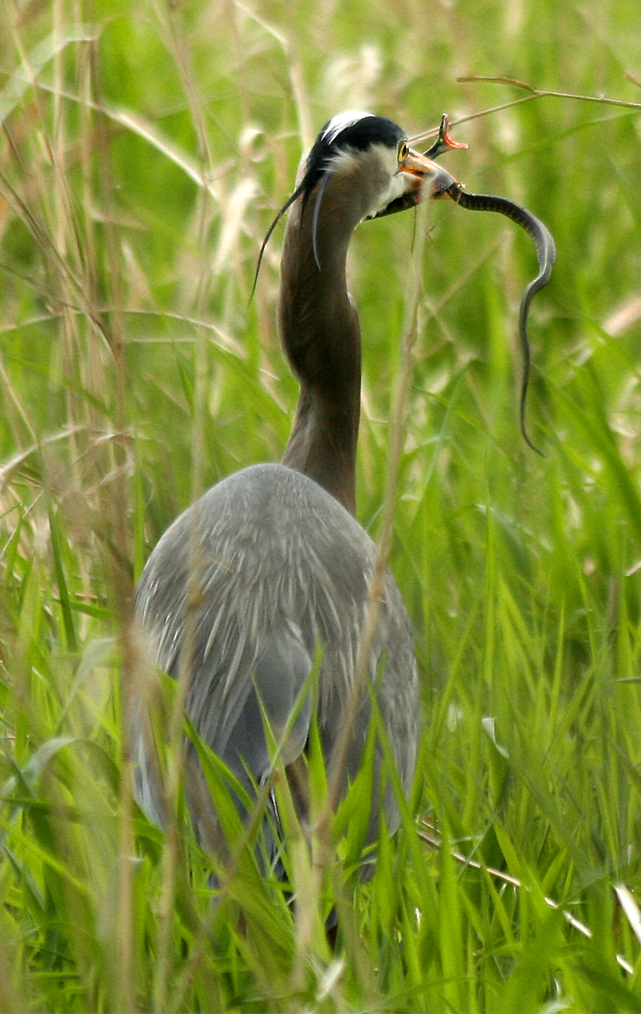heron: (141, 98, 567, 863)
